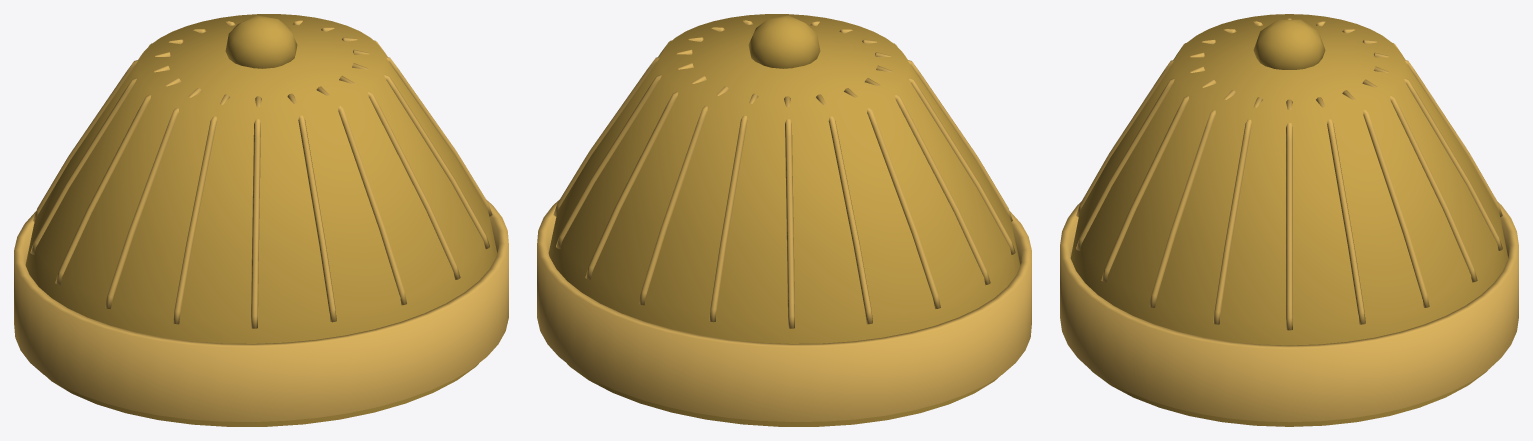
The model's file is 13-golden-hour-knit.glb.
3 renders of one model, left to right at view 1: azimuth 30°, elevation 25°; view 2: azimuth 150°, elevation 25°; view 3: azimuth 270°, elevation 25°, orthographic. The views are drawn at different scales.
Visible parts, largest first — view 1: Hat13_Crown1, Hat13_Band2, Hat13_RoundDetail21, Hat13_KnitRib15, Hat13_KnitRib14, Hat13_KnitRib16, Hat13_KnitRib13, Hat13_KnitRib17, Hat13_KnitRib12, Hat13_KnitRib18, Hat13_KnitRib19, Hat13_KnitRib11 (+2 smaller); view 2: Hat13_Crown1, Hat13_Band2, Hat13_RoundDetail21, Hat13_KnitRib9, Hat13_KnitRib10, Hat13_KnitRib8, Hat13_KnitRib11, Hat13_KnitRib7, Hat13_KnitRib12, Hat13_KnitRib6, Hat13_KnitRib5, Hat13_KnitRib13 (+2 smaller); view 3: Hat13_Crown1, Hat13_Band2, Hat13_RoundDetail21, Hat13_KnitRib20, Hat13_KnitRib4, Hat13_KnitRib3, Hat13_KnitRib19, Hat13_KnitRib5, Hat13_KnitRib18, Hat13_KnitRib6, Hat13_KnitRib17, Hat13_KnitRib7 (+2 smaller).
Part boxes in pixels (x1,y1,x2,y2): Hat13_Crown1: [25, 14, 497, 426]; Hat13_Band2: [14, 200, 508, 421]; Hat13_RoundDetail21: [225, 15, 297, 68]; Hat13_KnitRib15: [251, 96, 261, 328]; Hat13_KnitRib14: [173, 94, 229, 324]; Hat13_KnitRib16: [287, 93, 336, 322]; Hat13_KnitRib13: [105, 88, 201, 308]; Hat13_KnitRib17: [316, 86, 406, 305]; Hat13_KnitRib12: [55, 78, 180, 285]; Hat13_KnitRib18: [339, 75, 460, 279]; Hat13_KnitRib19: [352, 63, 489, 249]; Hat13_KnitRib11: [30, 65, 169, 254]; Hat13_Crown1: [548, 14, 1020, 426]; Hat13_Band2: [537, 200, 1031, 421]; Hat13_RoundDetail21: [748, 15, 820, 68]; Hat13_KnitRib9: [784, 96, 794, 328]; Hat13_KnitRib10: [816, 94, 872, 324]; Hat13_KnitRib8: [709, 93, 758, 322]; Hat13_KnitRib11: [844, 88, 940, 308]; Hat13_KnitRib7: [639, 86, 729, 305]; Hat13_KnitRib12: [865, 78, 990, 285]; Hat13_KnitRib6: [585, 75, 706, 279]; Hat13_KnitRib5: [556, 63, 693, 249]; Hat13_KnitRib13: [876, 65, 1015, 254]; Hat13_Crown1: [1070, 14, 1508, 426]; Hat13_Band2: [1060, 201, 1518, 422]; Hat13_RoundDetail21: [1253, 19, 1325, 69]; Hat13_KnitRib20: [1213, 97, 1262, 324]; Hat13_KnitRib4: [1316, 97, 1365, 324]; Hat13_KnitRib3: [1286, 99, 1292, 330]; Hat13_KnitRib19: [1149, 90, 1236, 307]; Hat13_KnitRib5: [1342, 90, 1429, 307]; Hat13_KnitRib18: [1101, 79, 1216, 282]; Hat13_KnitRib6: [1362, 79, 1477, 282]; Hat13_KnitRib17: [1076, 66, 1204, 250]; Hat13_KnitRib7: [1374, 66, 1502, 250].
Bounding box in the file's own units: 0.644 × 0.439 × 0.5989.
